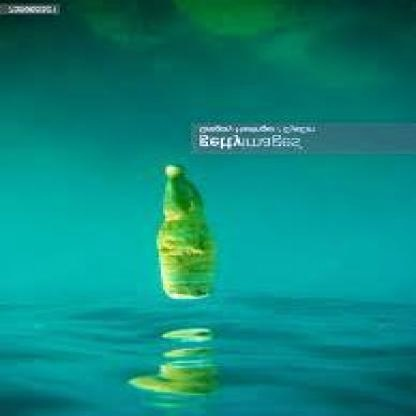pbottle: (140, 157, 230, 306)
